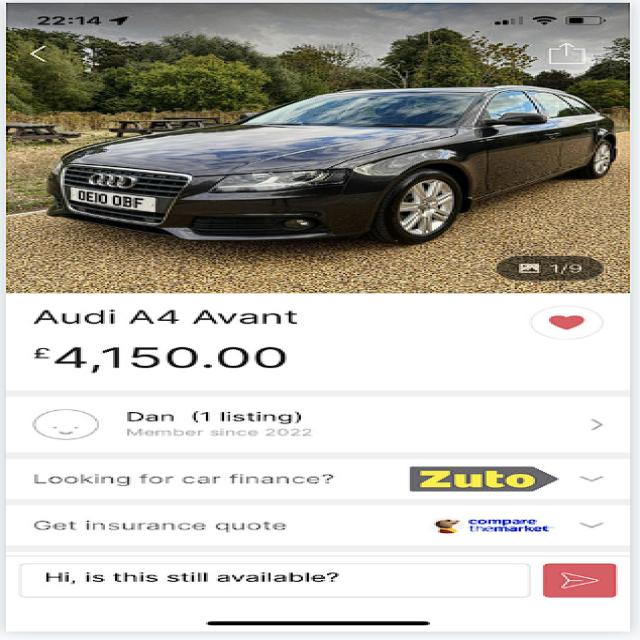icon button: (520, 295, 617, 349), (537, 556, 624, 604), (534, 33, 603, 74), (563, 504, 628, 542), (563, 404, 624, 443), (578, 462, 622, 496)
image: (0, 0, 640, 295)
input: (4, 554, 543, 606)
row: (6, 392, 638, 456), (15, 504, 640, 554), (9, 459, 631, 504)
text: (12, 303, 366, 380)
